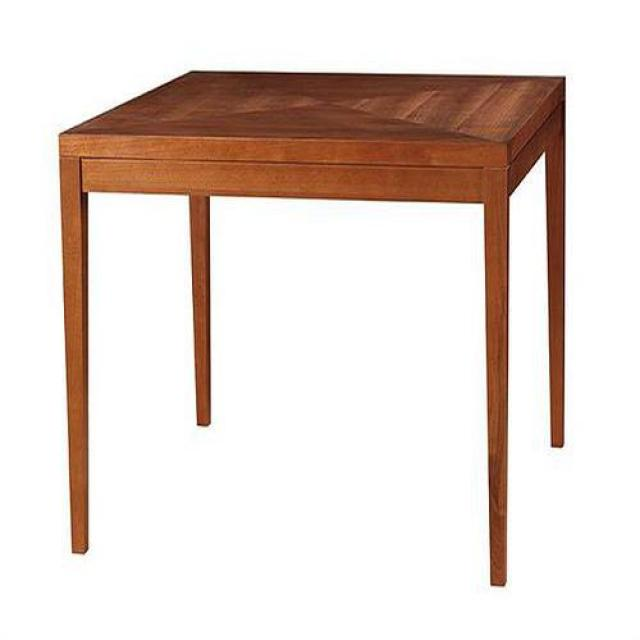table: (59, 72, 570, 593)
